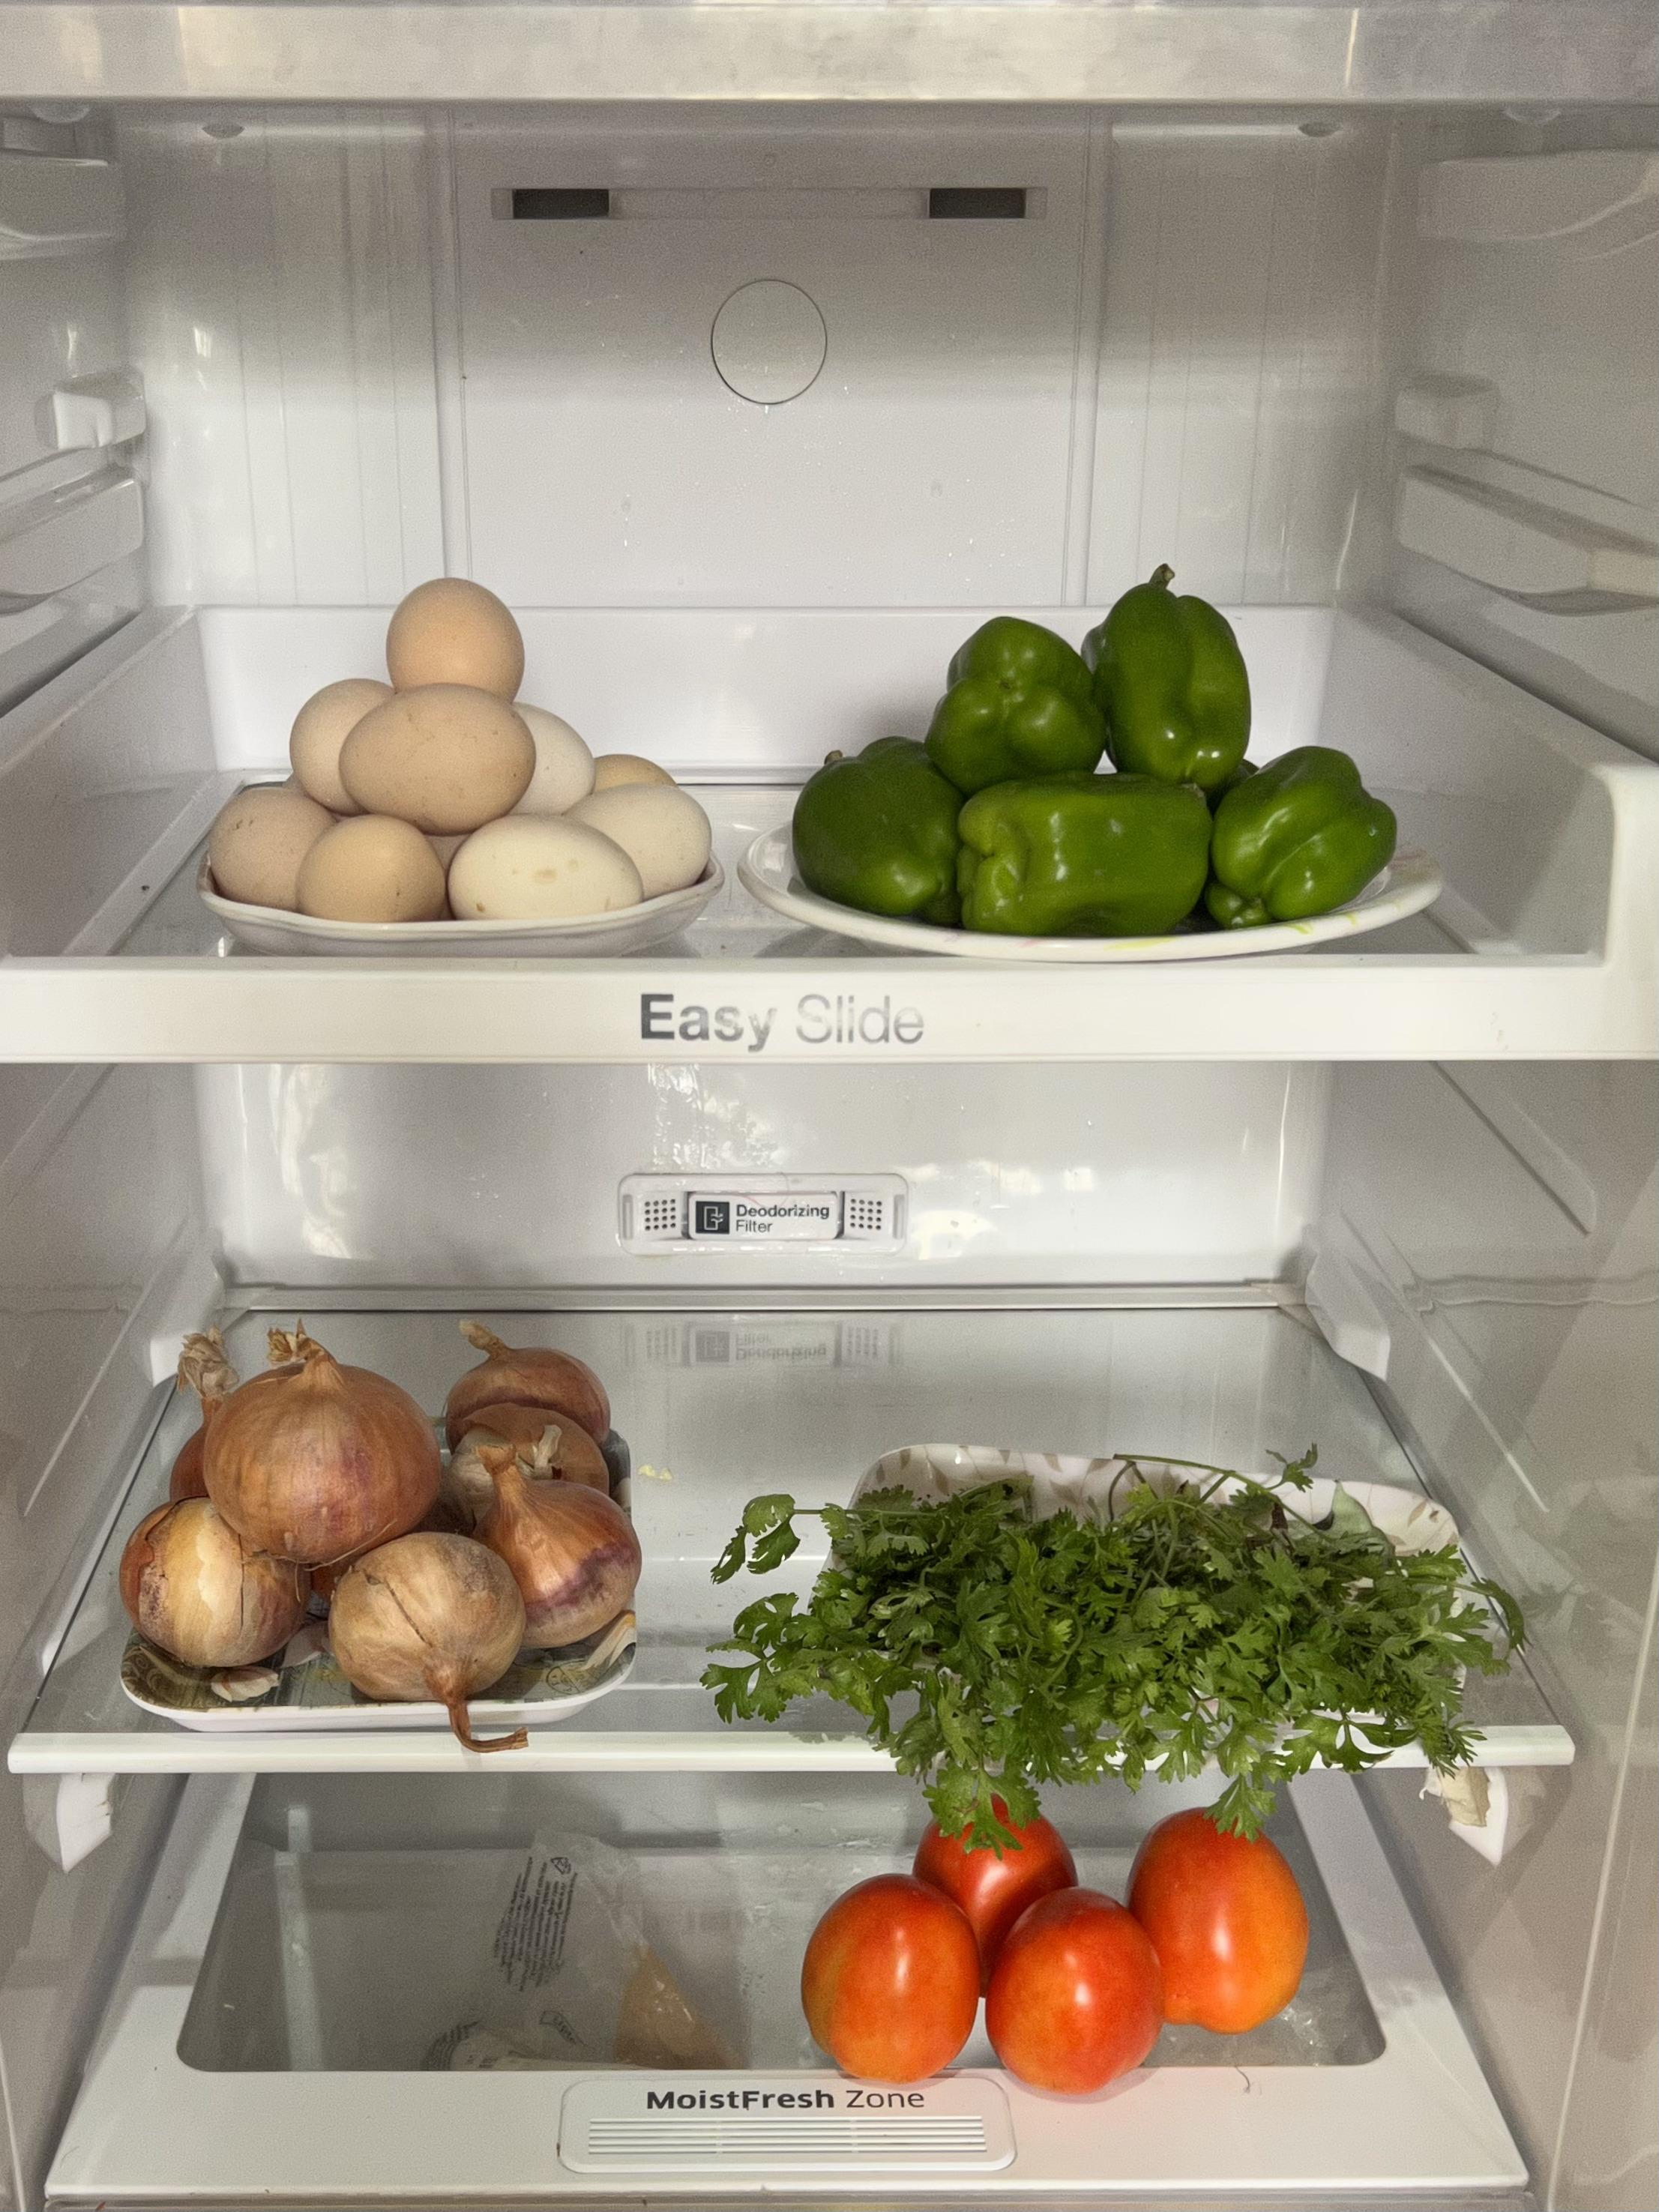capsicum: (795, 575, 1389, 934)
coriander: (746, 1463, 1466, 1757)
egg: (209, 582, 709, 939)
onion: (122, 1322, 640, 1709)
tomato: (800, 1804, 1309, 2095)
